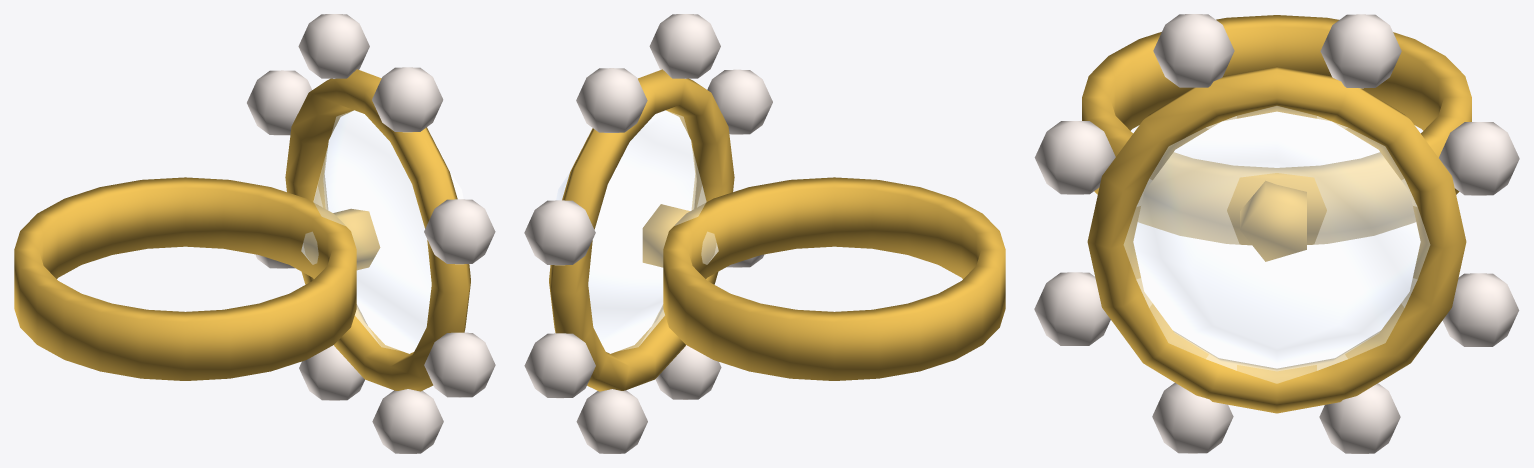
File: cocktail_ring.glb
3 renders of one model, left to right at view 1: azimuth 30°, elevation 25°; view 2: azimuth 150°, elevation 25°; view 3: azimuth 270°, elevation 25°, orthographic. The views are drawn at different scales.
Visible parts, largest first — view 1: cocktail_ring; view 2: cocktail_ring; view 3: cocktail_ring.
Part boxes in pixels (x1,y1,x2,y2): cocktail_ring: (14,14,495,453); cocktail_ring: (524,14,1005,453); cocktail_ring: (1034,14,1519,453).
Bounding box in the file's own units: 0.0282 × 0.0262 × 0.0262.
